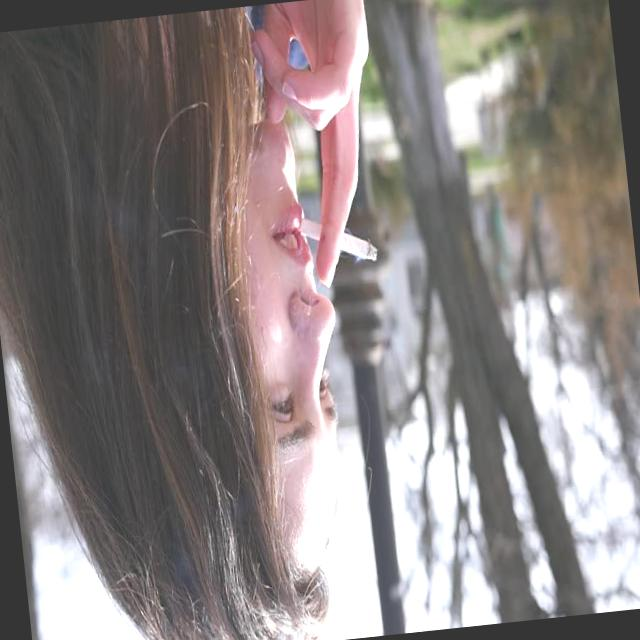smoke: (287, 184, 396, 304)
